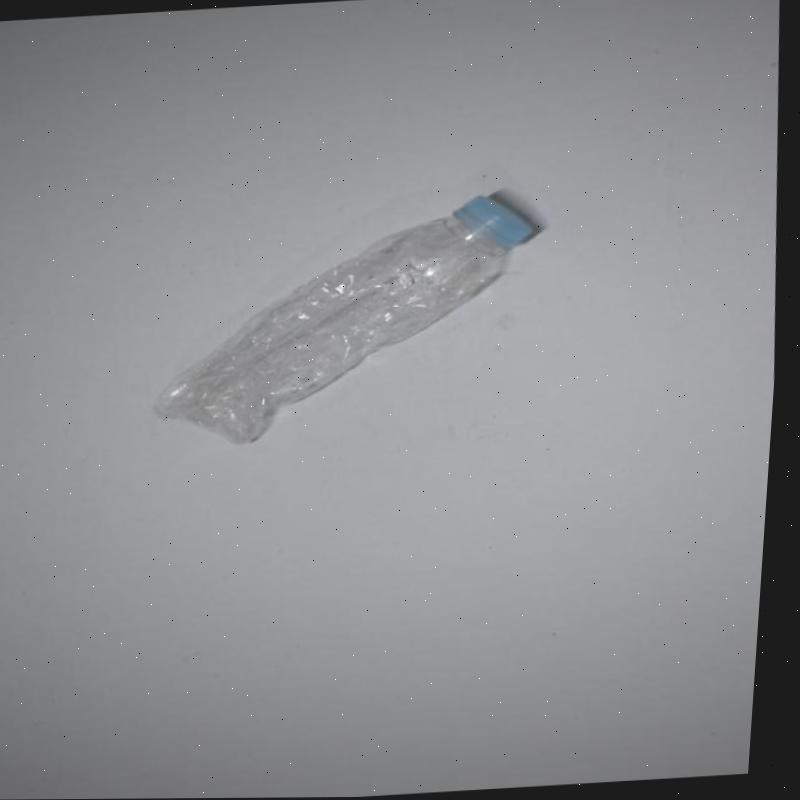botella: (142, 190, 560, 451)
